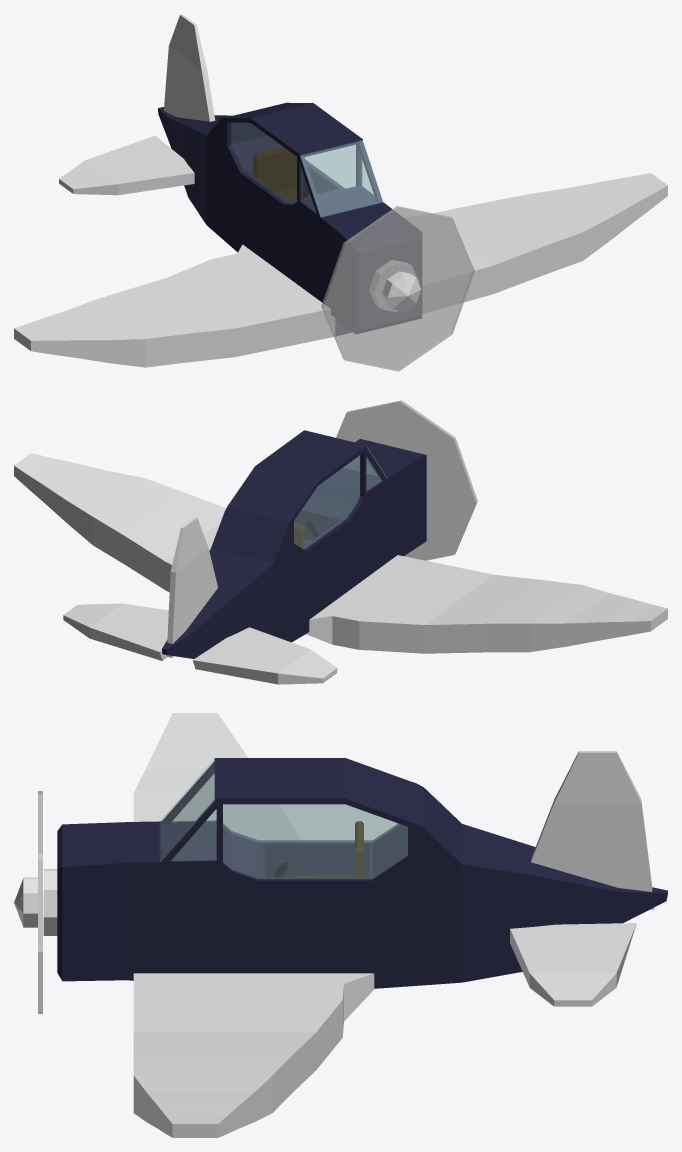
3 renders of one model, top to bottom at view 1: azimuth 30°, elevation 25°; view 2: azimuth 150°, elevation 25°; view 3: azimuth 270°, elevation 25°, orthographic. The views are drawn at different scales.
Parts seen in each view (by area): view 1: SingleSeatPlane; view 2: SingleSeatPlane; view 3: SingleSeatPlane.
Boxes of the visible parts, x1,y1,x2,y2 form: SingleSeatPlane: [14, 14, 667, 371]; SingleSeatPlane: [14, 400, 667, 684]; SingleSeatPlane: [14, 713, 667, 1137].
Size of the model in its own units: 2329 by 687 by 1566.
